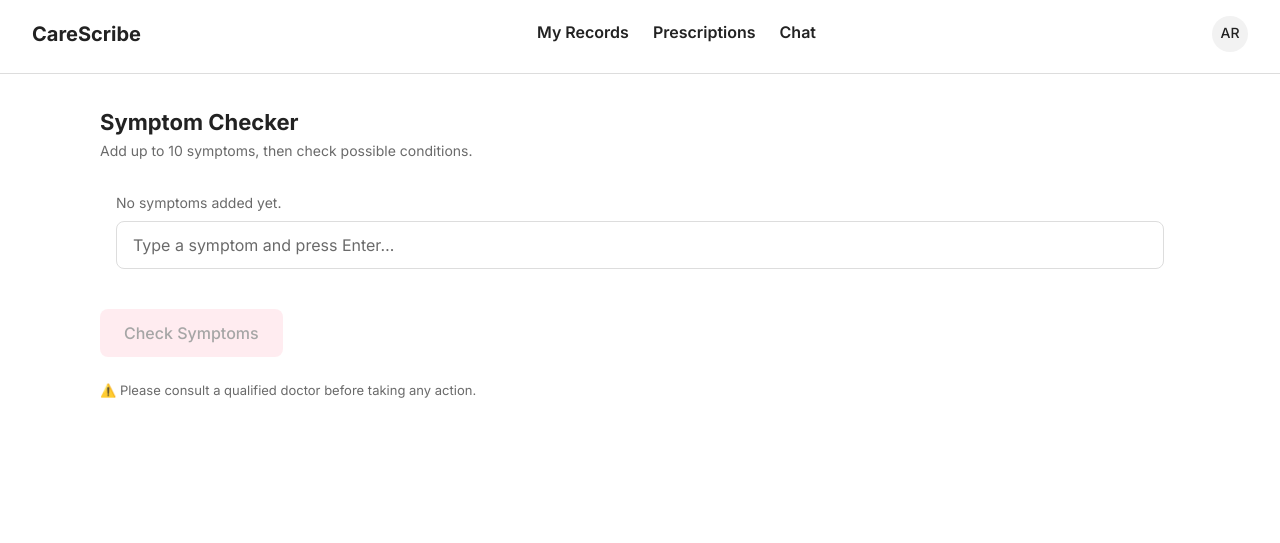
Test: symptom checker › shows low severity as green with text label
Type "sneeze" into the field labelled "Type a symptom and press Enter".
click(640, 245); type("sneeze")  # box [116,221,1164,269]
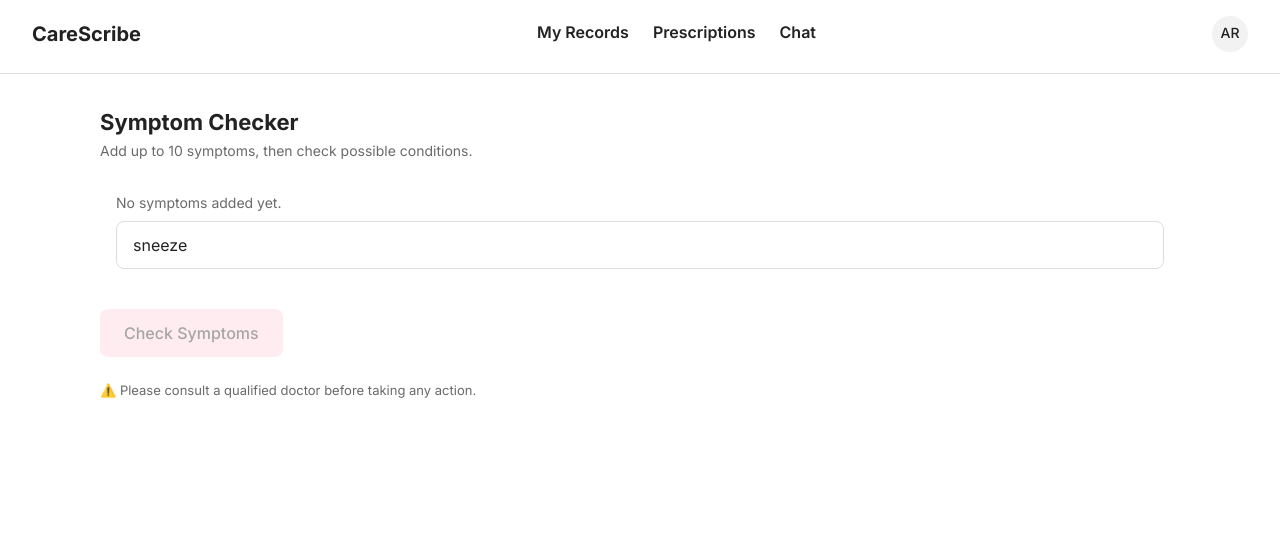
Press Enter in the field named "Type a symptom and press Enter", box [116,221,1164,269]
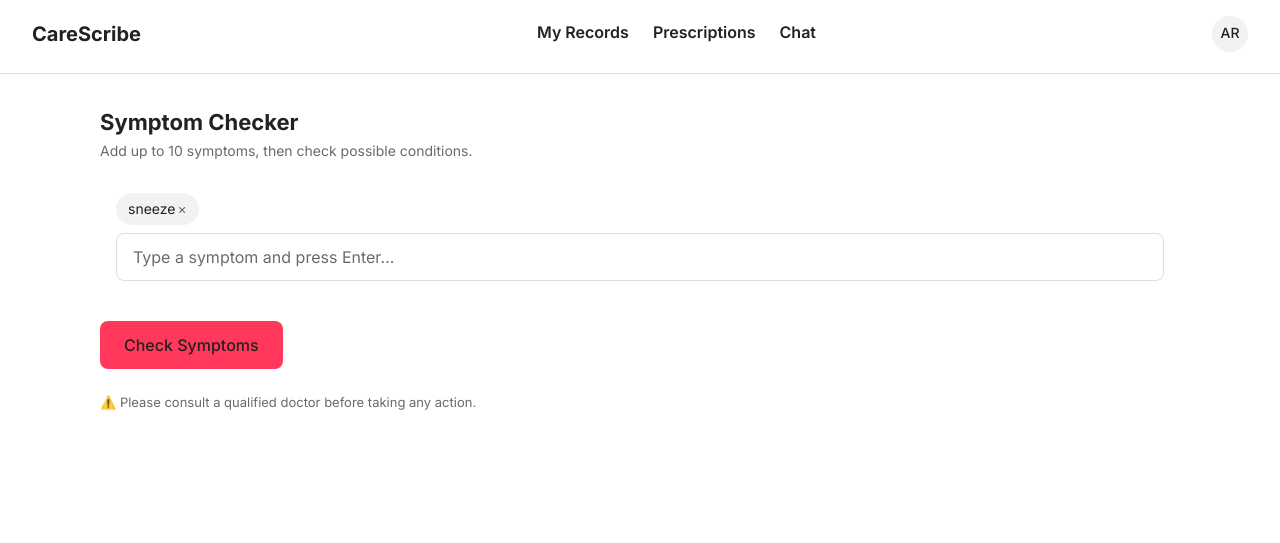
Click the button "Check Symptoms".
click(191, 345)  # box [100,321,283,369]
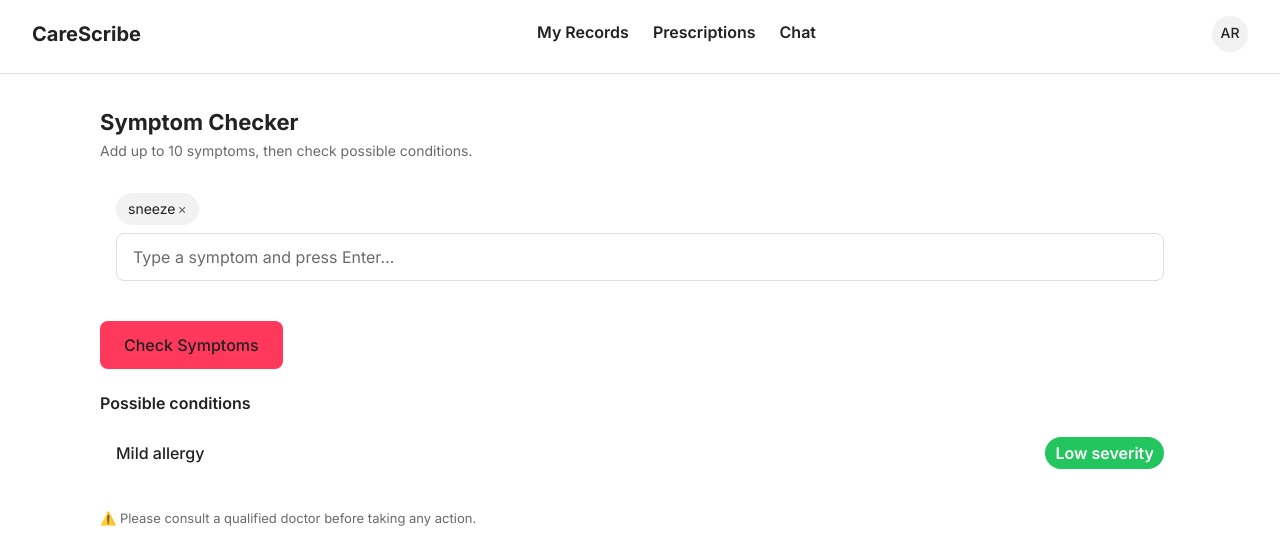
Result: the text "Mild allergy" is shown at [116,443,204,463]
